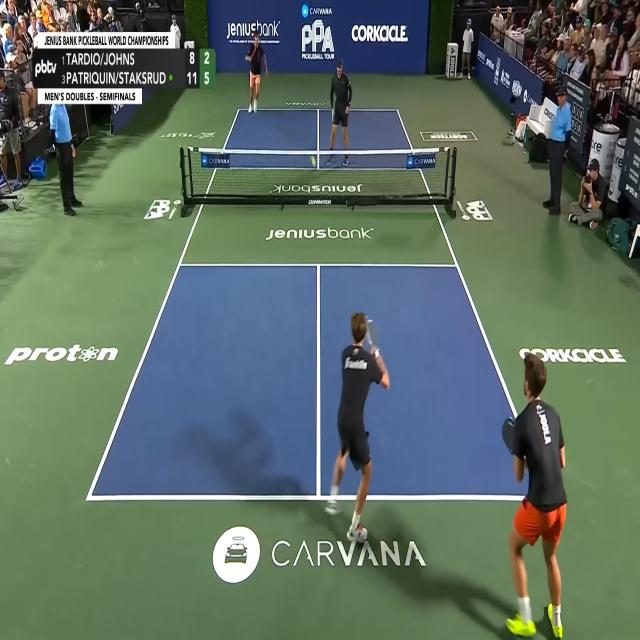ball: (312, 156, 316, 166)
